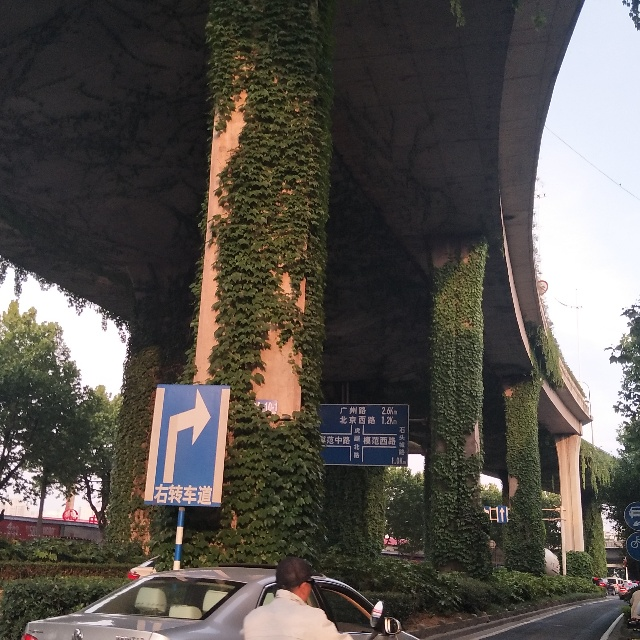right: (146, 383, 225, 502)
